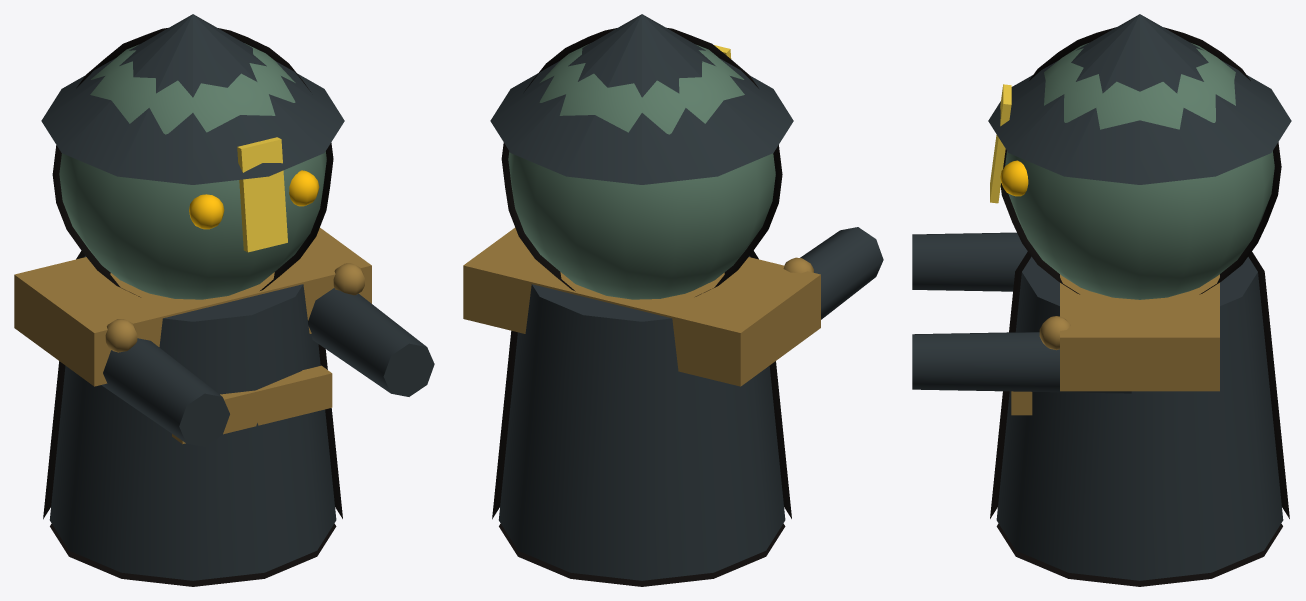
Rendered from magiap.glb.
3 renders of one model, left to right at view 1: azimuth 30°, elevation 25°; view 2: azimuth 150°, elevation 25°; view 3: azimuth 270°, elevation 25°, orthographic.
Visible parts, largest first — view 1: MG_Torso, MG_Head, MG_Helmet, MG_Shoulder, MG_Arm_1, MG_Arm_0, MG_BreastplateTrim, MG_Talisman, MG_Torso_outline, MG_Head_outline, MG_Eye_0, MG_Rivet_0 (+2 smaller); view 2: MG_Torso, MG_Head, MG_Helmet, MG_Shoulder, MG_Torso_outline, MG_Arm_0, MG_Head_outline; view 3: MG_Torso, MG_Head, MG_Helmet, MG_Shoulder, MG_Arm_1, MG_Arm_0, MG_Torso_outline, MG_Head_outline, MG_Talisman, MG_Eye_1, MG_Rivet_1, MG_BreastplateTrim.
Part boxes in pixels (x1,y1,x2,y2): MG_Torso: (49,256,336,580); MG_Head: (59,43,326,299); MG_Helmet: (41,14,344,184); MG_Shoulder: (14,228,371,386); MG_Arm_1: (308,288,434,396); MG_Arm_0: (101,338,229,446); MG_BreastplateTrim: (172,365,332,444); MG_Talisman: (237,137,287,252); MG_Torso_outline: (43,251,342,586); MG_Head_outline: (52,28,333,297); MG_Eye_0: (189,194,224,229); MG_Rivet_0: (105,319,137,352); MG_Torso: (498,256,785,580); MG_Head: (508,43,775,299); MG_Helmet: (490,14,793,184); MG_Shoulder: (463,228,820,386); MG_Torso_outline: (492,250,791,586); MG_Arm_0: (800,227,883,319); MG_Head_outline: (501,27,782,296); MG_Torso: (996,256,1283,580); MG_Head: (1005,43,1274,299); MG_Helmet: (988,14,1291,184); MG_Shoulder: (1060,274,1219,391); MG_Arm_1: (912,332,1131,393); MG_Arm_0: (912,232,1027,291); MG_Torso_outline: (990,251,1289,586); MG_Head_outline: (1000,27,1281,294); MG_Talisman: (990,84,1011,203); MG_Eye_1: (1000,160,1028,196); MG_Rivet_1: (1039,316,1070,350); MG_BreastplateTrim: (1011,391,1032,415).
Bounding box in the file's own units: 0.76 × 1.34 × 0.9.
